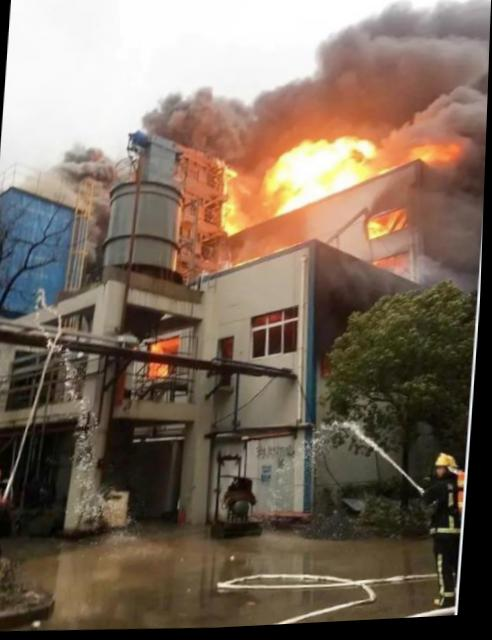fire: (267, 138, 374, 186), (217, 169, 255, 237), (264, 183, 300, 219), (408, 145, 456, 168), (366, 213, 400, 243), (298, 181, 327, 208), (147, 339, 183, 356), (150, 362, 171, 381), (327, 181, 352, 195)
smoke: (140, 0, 489, 156)
